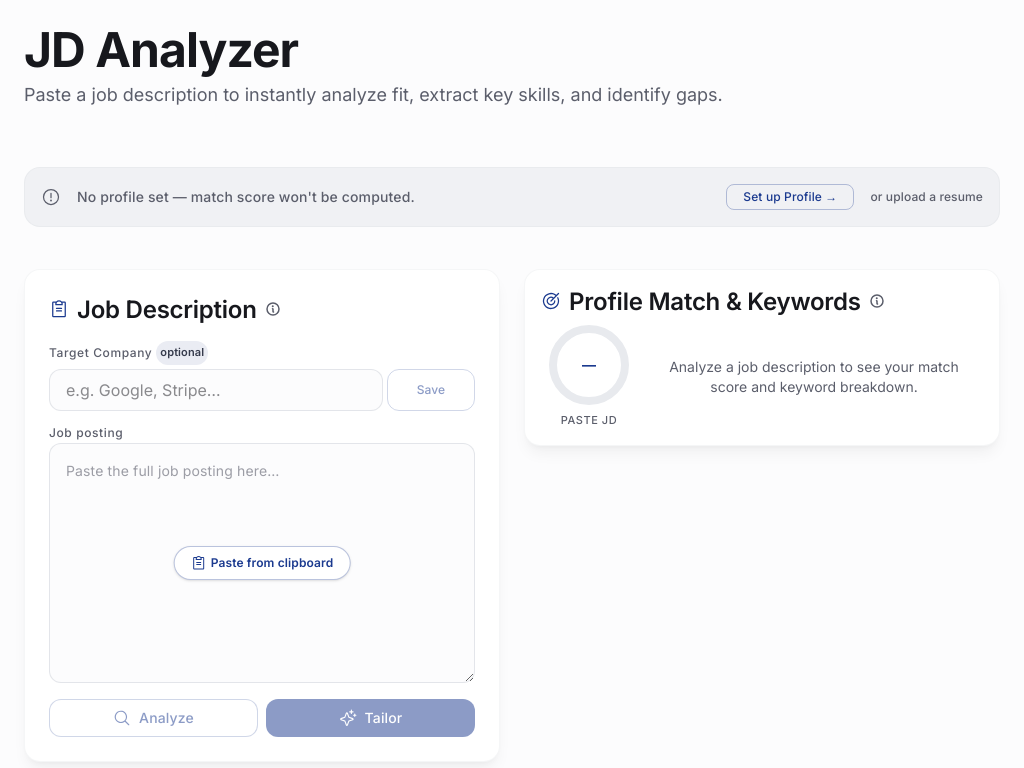
Test: JDIndexPage — Tailor Resume › shows the company Save before the JD is saved, and says when the company is kept
Expected: the button with aria-label "Save company" is disabled, [387,369,475,411]
Type "Stripe" into the field labelled "Target Company optional" at (216, 390), box [49,369,383,411]
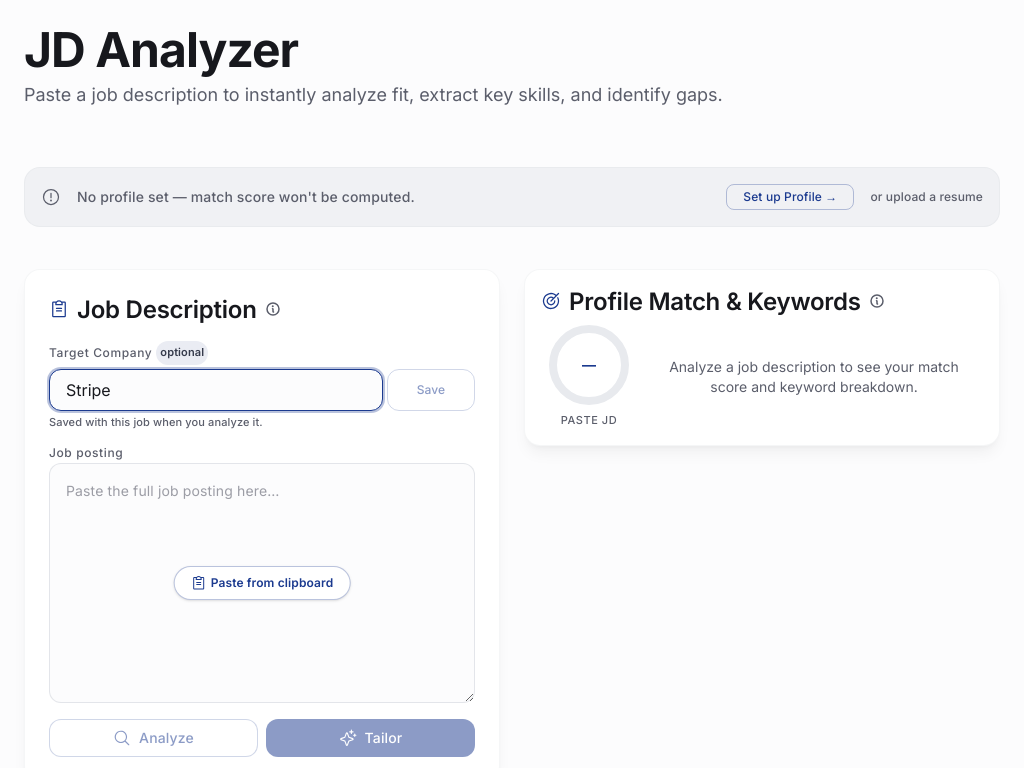
Now the text "Saved with this job when you analyze it." is shown, box [49,415,263,429]
